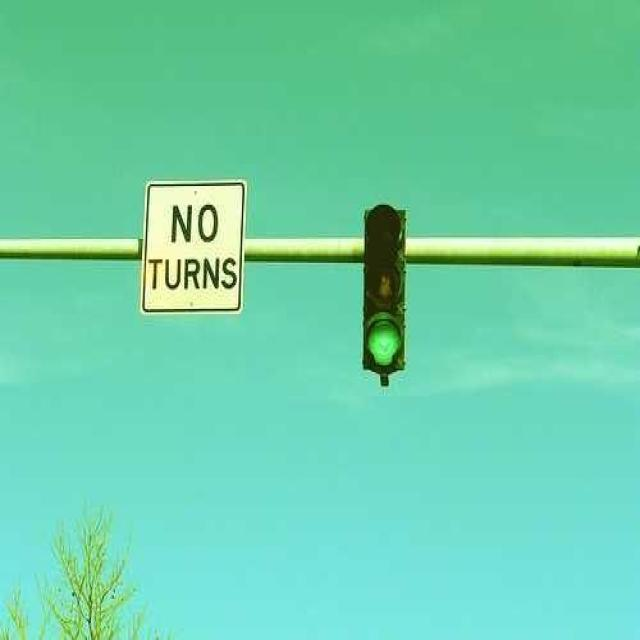Traffic Light -Green-: (360, 203, 411, 376)
